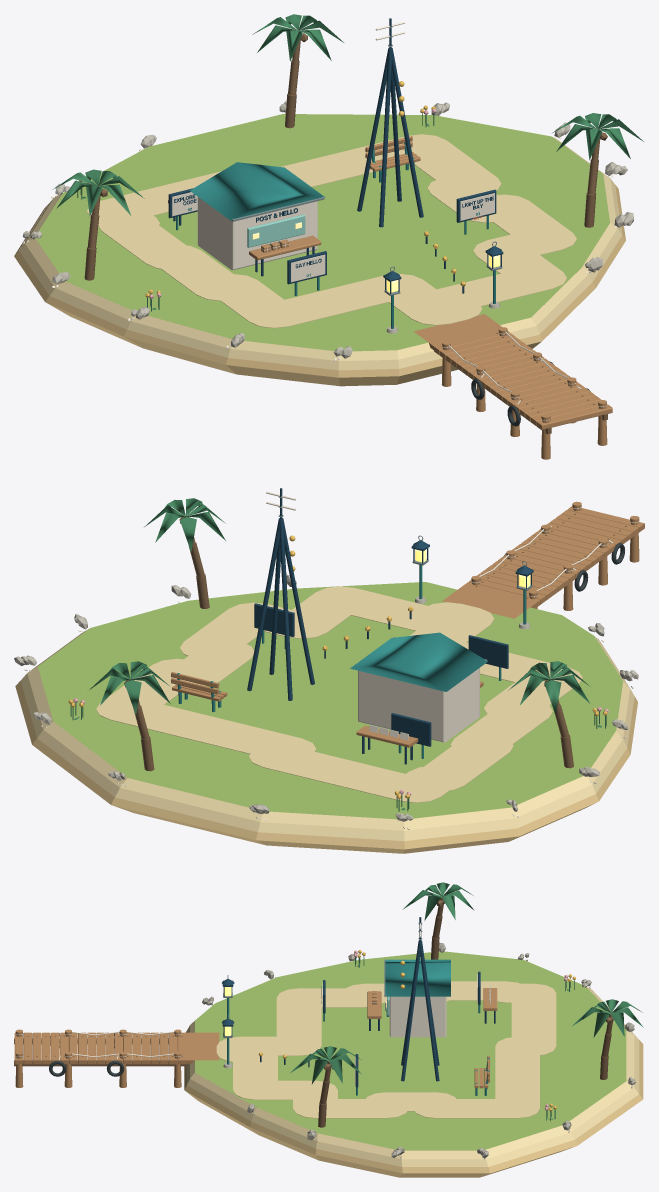
Rendered from connect.glb.
3 views of the same model, one above another, from view 1: azimuth 30°, elevation 25°; view 2: azimuth 150°, elevation 25°; view 3: azimuth 270°, elevation 25° (orthographic). The views are drawn at different scales.
Visible parts, largest first — view 1: static_grass, static_sand, static_wood, static_sandEdge, static_ivory, occluder_connect_roof_teal, static_navy, static_stone, occluder_connect_tree_12_leaf, occluder_connect_tree_4_leaf, occluder_connect_tree_8_leaf, static_glass (+5 smaller); view 2: static_grass, static_sand, static_wood, static_sandEdge, static_ivory, occluder_connect_roof_teal, static_navy, static_stone, occluder_connect_tree_8_leaf, occluder_connect_tree_4_leaf, occluder_connect_tree_12_leaf, station_hello_navy (+5 smaller); view 3: static_grass, static_sand, static_wood, static_sandEdge, static_ivory, occluder_connect_roof_teal, static_navy, static_stone, occluder_connect_tree_12_leaf, occluder_connect_tree_8_leaf, occluder_connect_tree_4_leaf, static_darkWood (+3 smaller).
Boxes of the visible parts, x1=… form: static_grass: x1=35, y1=114, x2=609, y2=351; static_sand: x1=19, y1=134, x2=622, y2=370; static_wood: x1=168, y1=136, x2=612, y2=459; static_sandEdge: x1=14, y1=185, x2=625, y2=386; static_ivory: x1=22, y1=113, x2=616, y2=420; occluder_connect_roof_teal: x1=190, y1=162, x2=325, y2=220; static_navy: x1=173, y1=48, x2=503, y2=293; static_stone: x1=22, y1=101, x2=633, y2=358; occluder_connect_tree_12_leaf: x1=552, y1=113, x2=643, y2=160; occluder_connect_tree_4_leaf: x1=52, y1=169, x2=144, y2=216; occluder_connect_tree_8_leaf: x1=252, y1=14, x2=343, y2=61; static_glass: x1=247, y1=214, x2=305, y2=247; static_grass: x1=38, y1=582, x2=622, y2=819; static_sand: x1=20, y1=586, x2=634, y2=841; static_wood: x1=171, y1=501, x2=644, y2=747; static_sandEdge: x1=15, y1=681, x2=637, y2=853; static_ivory: x1=24, y1=506, x2=638, y2=829; occluder_connect_roof_teal: x1=350, y1=632, x2=487, y2=691; static_navy: x1=247, y1=518, x2=533, y2=764; static_stone: x1=14, y1=574, x2=638, y2=821; occluder_connect_tree_8_leaf: x1=89, y1=661, x2=170, y2=714; occluder_connect_tree_4_leaf: x1=508, y1=661, x2=590, y2=714; occluder_connect_tree_12_leaf: x1=144, y1=498, x2=225, y2=551; station_hello_navy: x1=468, y1=635, x2=508, y2=668; static_grass: x1=195, y1=951, x2=626, y2=1150; static_sand: x1=187, y1=981, x2=639, y2=1166; static_wood: x1=14, y1=988, x2=497, y2=1088; static_sandEdge: x1=184, y1=1031, x2=643, y2=1177; static_ivory: x1=16, y1=959, x2=632, y2=1159; occluder_connect_roof_teal: x1=385, y1=959, x2=450, y2=996; static_navy: x1=221, y1=940, x2=495, y2=1081; static_stone: x1=202, y1=942, x2=635, y2=1158; occluder_connect_tree_12_leaf: x1=290, y1=1046, x2=361, y2=1084; occluder_connect_tree_8_leaf: x1=572, y1=999, x2=643, y2=1037; occluder_connect_tree_4_leaf: x1=402, y1=882, x2=474, y2=920; static_darkWood: x1=14, y1=1036, x2=186, y2=1066.
Bounding box in the file's own units: 23.16 × 9.32 × 28.88.
